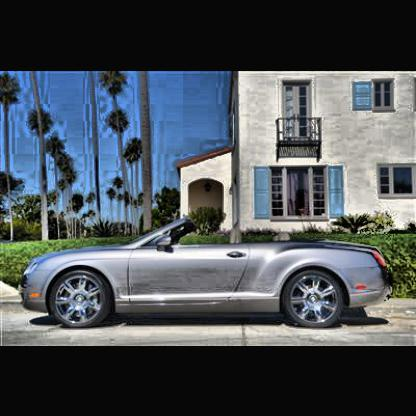Bentley Continental Supersports Conv- Convertible 2012: (18, 215, 394, 331)
